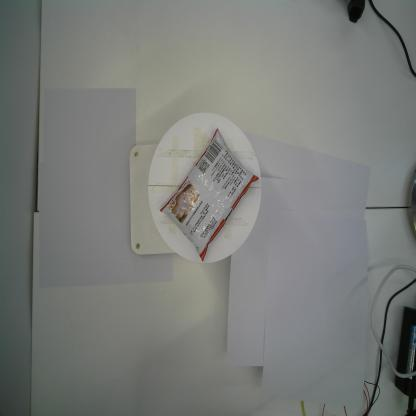Seasoner: (159, 126, 261, 264)
